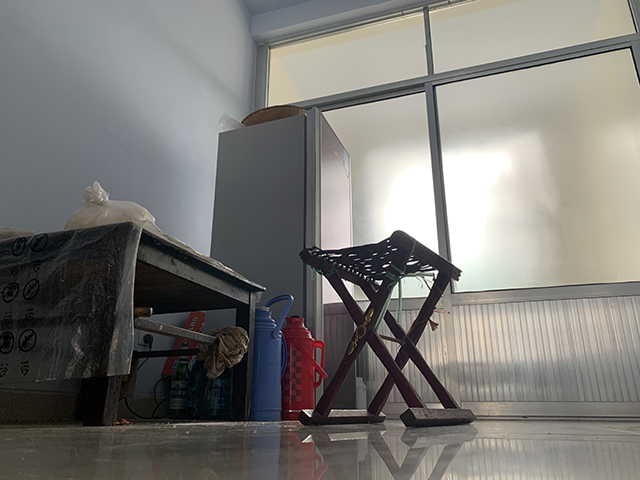stool: (298, 228, 478, 427)
table: (1, 220, 266, 427)
